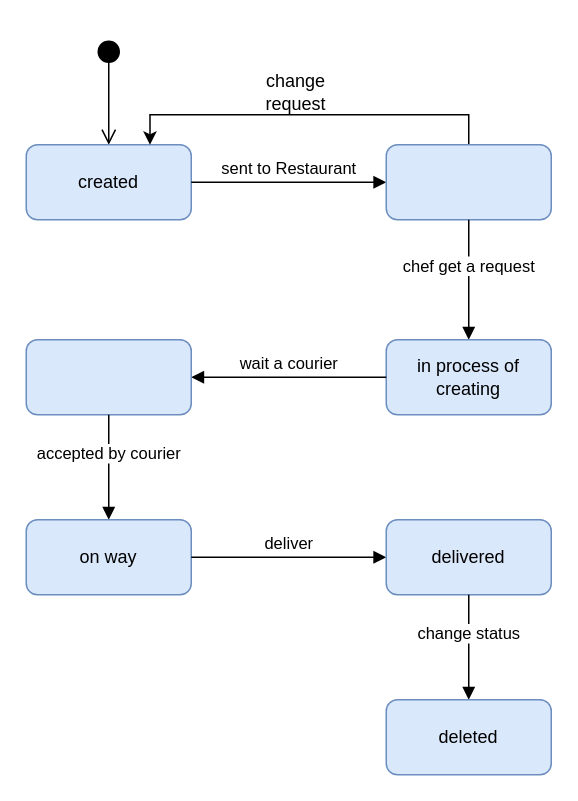
The diagram is 578 pixels wide and 801 high, and some of its shapes have lost their labels. Each missing label, with the centre of its shape:
accepted by restaurant: point (468, 181)
is ready to deliver: point (108, 376)
